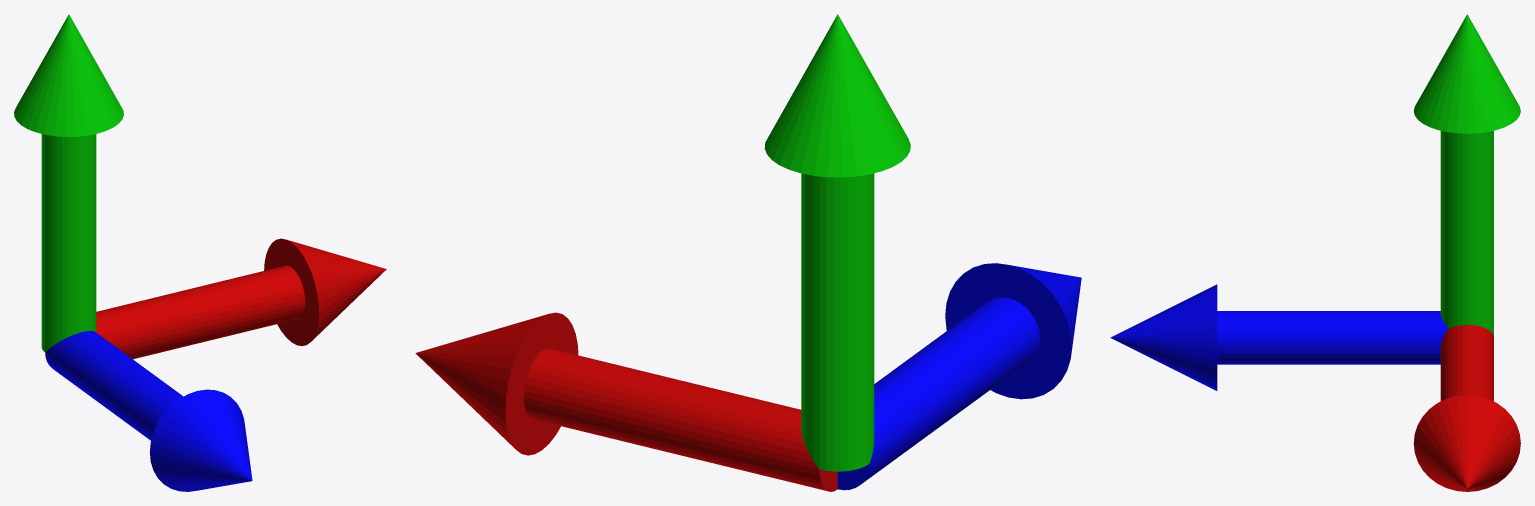
The model's file is Axes.obj.
3 renders of one model, left to right at view 1: azimuth 30°, elevation 25°; view 2: azimuth 150°, elevation 25°; view 3: azimuth 270°, elevation 25°, orthographic. The views are drawn at different scales.
Visible parts, largest first — view 1: Y, X, Z; view 2: Y, X, Z; view 3: Z, Y, X.
Part boxes in pixels (x1,y1,x2,y2): Y: (14, 14, 123, 352); X: (95, 238, 386, 359); Z: (45, 330, 252, 491); Y: (764, 14, 910, 471); X: (415, 312, 837, 491); Z: (837, 263, 1081, 490); Z: (1110, 284, 1448, 390); Y: (1413, 14, 1520, 335); X: (1413, 324, 1520, 491).
Size of the model in its own units: 2.3 by 2.3 by 2.3.
